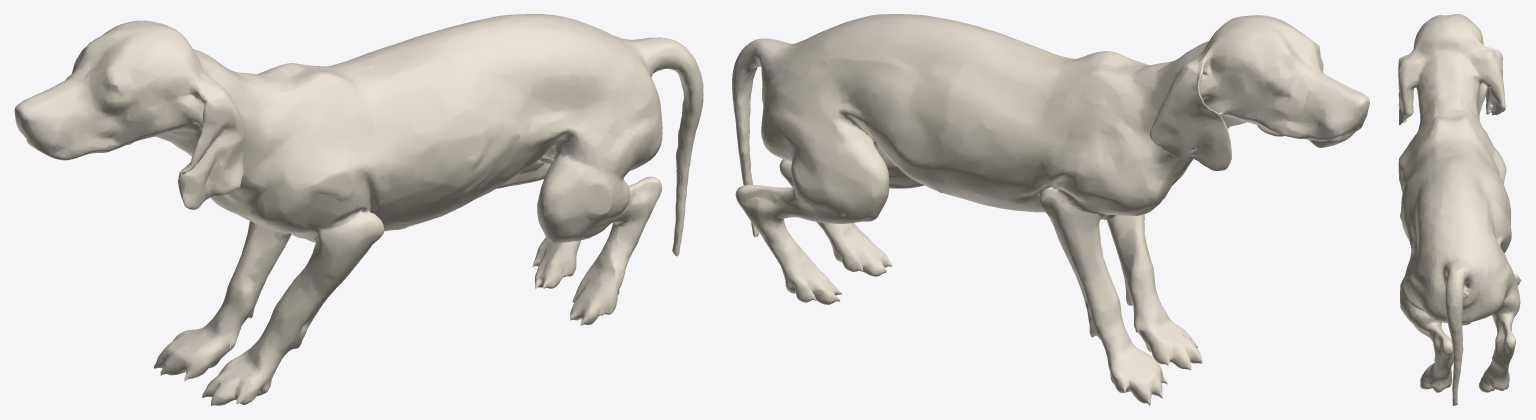
The model's file is canine-visible-ajou-detail-f6d63d2d1614.glb.
3 views of the same model, side by side, from view 1: azimuth 30°, elevation 25°; view 2: azimuth 150°, elevation 25°; view 3: azimuth 270°, elevation 25° (orthographic). The views are drawn at different scales.
Visible parts, largest first — view 1: skin; view 2: skin; view 3: skin.
Part boxes in pixels (x1,y1,x2,y2): skin: [14, 14, 703, 405]; skin: [732, 14, 1369, 405]; skin: [1398, 14, 1521, 405].
Bounding box in the file's own units: 2 × 1.1 × 0.5048.
